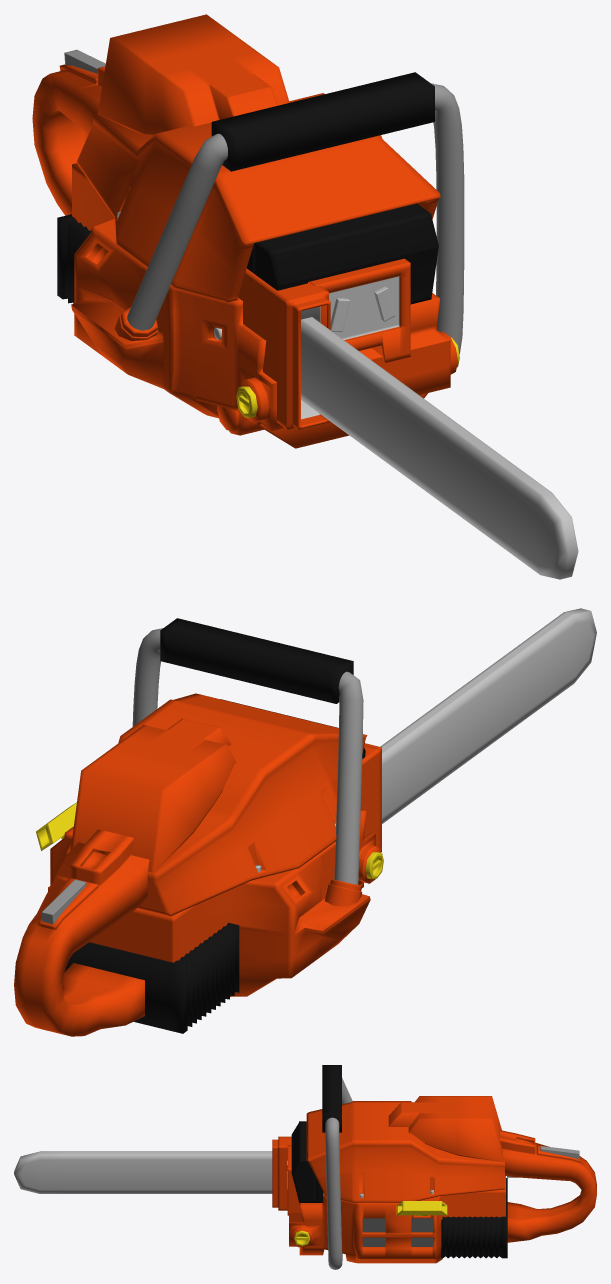
Rendered from hjmediastudios_-_chainsaw.fbx.
3 views of the same model, one above another, from view 1: azimuth 30°, elevation 25°; view 2: azimuth 150°, elevation 25°; view 3: azimuth 270°, elevation 25° (orthographic). The views are drawn at different scales.
Parts seen in each view (by area): view 1: Chainsaw; view 2: Chainsaw; view 3: Chainsaw.
Boxes of the visible parts, left/top/right/bottom form: Chainsaw: left=32, top=14, right=578, bottom=579; Chainsaw: left=14, top=608, right=596, bottom=1036; Chainsaw: left=14, top=1065, right=596, bottom=1269.
Size of the model in its own units: 2.53 by 2.41 by 8.23.
